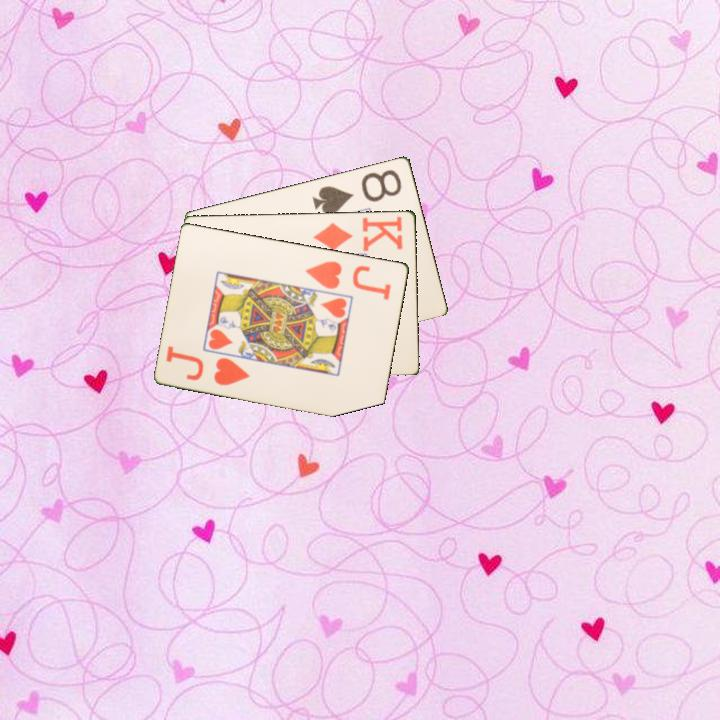8s: (309, 165, 405, 217)
Jh: (302, 257, 394, 302), (211, 354, 253, 388)
Kd: (310, 213, 406, 253)
